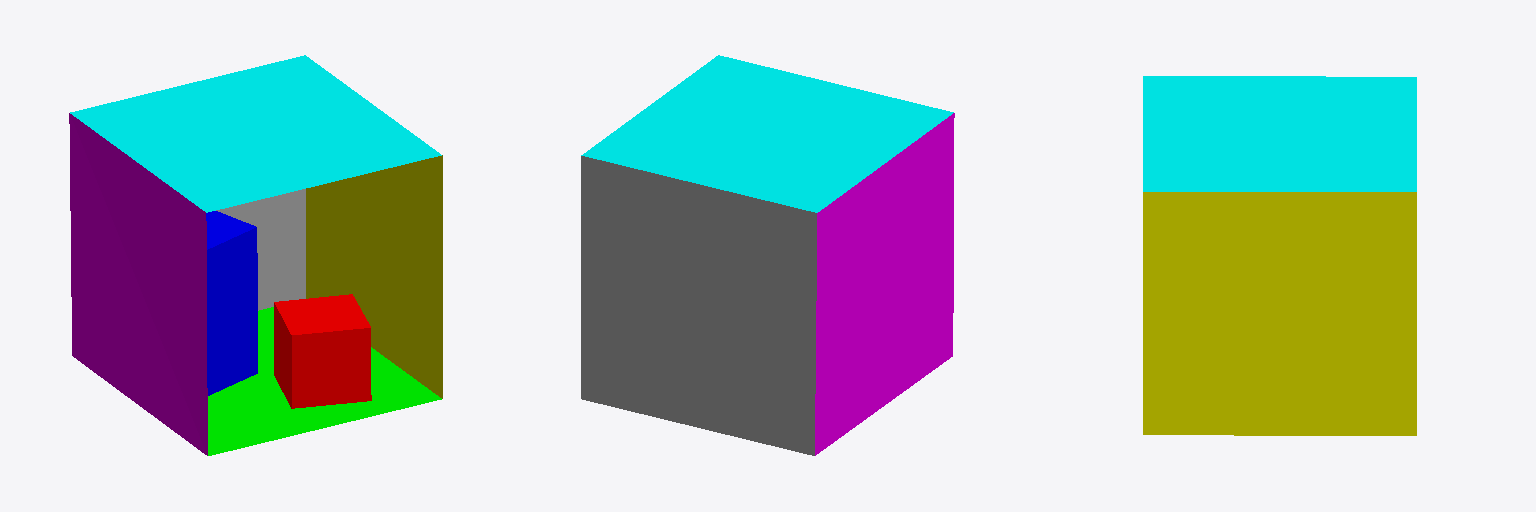
The model's file is textured-cornell-box.obj.
3 renders of one model, left to right at view 1: azimuth 30°, elevation 25°; view 2: azimuth 150°, elevation 25°; view 3: azimuth 270°, elevation 25°, orthographic.
Visible parts, largest first — view 1: left_wall, ceiling, right_wall, floor, short_box, tall_box_front, back_wall, tall_box; view 2: back_wall, left_wall, ceiling; view 3: right_wall, ceiling.
Part boxes in pixels (left/top/right/bottom): left_wall: left=69, top=113, right=207, bottom=455; ceiling: left=70, top=55, right=441, bottom=212; right_wall: left=306, top=155, right=442, bottom=398; floor: left=208, top=307, right=441, bottom=455; short_box: left=274, top=294, right=371, bottom=408; tall_box_front: left=207, top=227, right=257, bottom=395; back_wall: left=216, top=189, right=305, bottom=310; tall_box: left=206, top=211, right=255, bottom=249; back_wall: left=581, top=156, right=816, bottom=455; left_wall: left=815, top=113, right=954, bottom=455; ceiling: left=581, top=55, right=953, bottom=212; right_wall: left=1143, top=192, right=1416, bottom=435; ceiling: left=1143, top=76, right=1416, bottom=191.
Bounding box in the file's own units: 5.56 × 5.49 × 5.6.